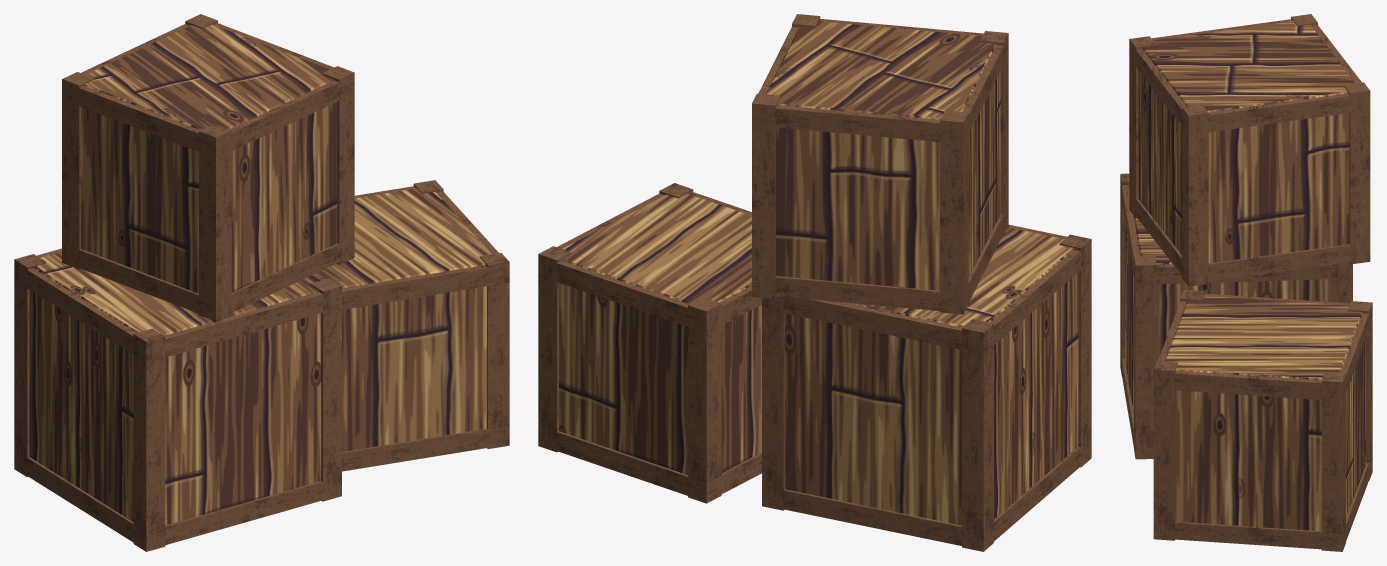
File: crate_stack.glb
3 views of the same model, side by side, from view 1: azimuth 30°, elevation 25°; view 2: azimuth 150°, elevation 25°; view 3: azimuth 270°, elevation 25° (orthographic). The views are drawn at different scales.
Visible parts, largest first — view 1: Crates; view 2: Crates; view 3: Crates.
Part boxes in pixels (box(x1,y1,x2,y2)): Crates: box(14, 14, 509, 551); Crates: box(538, 14, 1091, 551); Crates: box(1120, 14, 1372, 551).
Bounding box in the file's own units: 1.7 × 1.5 × 0.9495.
Materials: 2 (2 with a texture image).
